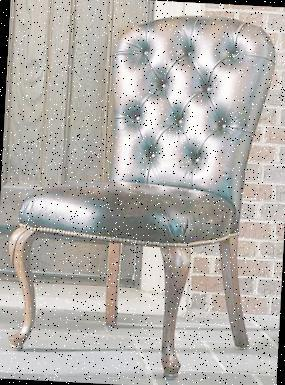Silla: (0, 11, 276, 378)
